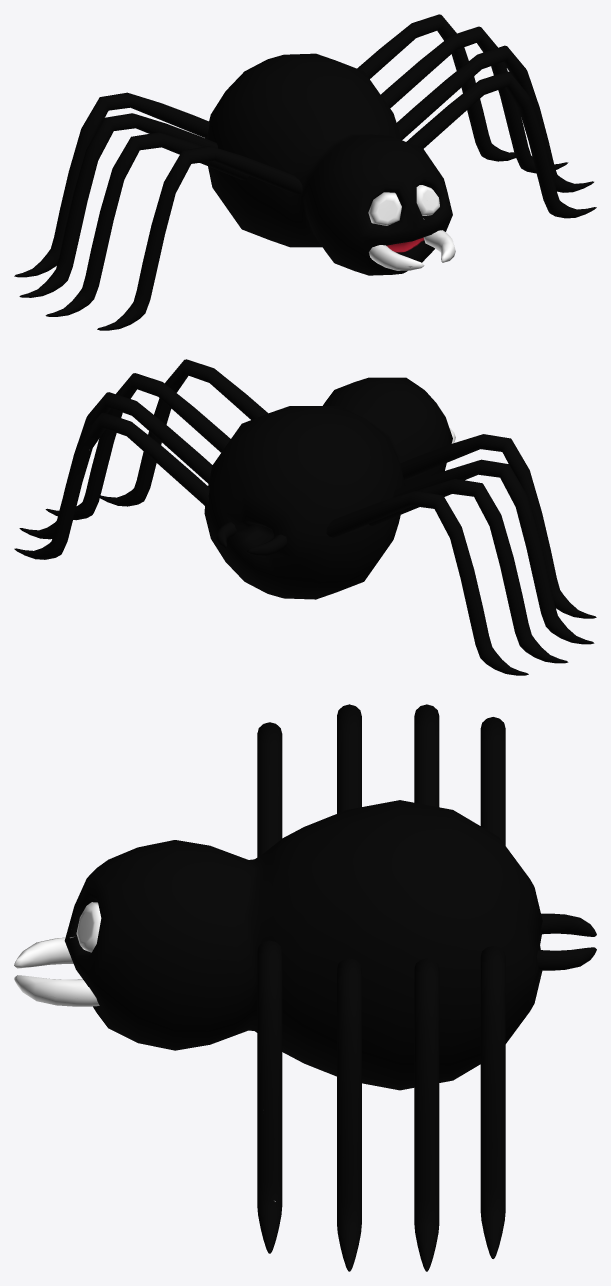
Rendered from spider.glb.
3 renders of one model, top to bottom at view 1: azimuth 30°, elevation 25°; view 2: azimuth 150°, elevation 25°; view 3: azimuth 270°, elevation 25°, orthographic. The views are drawn at different scales.
Visible parts, largest first — view 1: uploads_files_712193_crtbspd:Mesh; view 2: uploads_files_712193_crtbspd:Mesh; view 3: uploads_files_712193_crtbspd:Mesh.
Boxes of the visible parts, x1=… form: uploads_files_712193_crtbspd:Mesh: x1=14, y1=14, x2=596, y2=330; uploads_files_712193_crtbspd:Mesh: x1=14, y1=359, x2=596, y2=675; uploads_files_712193_crtbspd:Mesh: x1=14, y1=704, x2=596, y2=1271.
Size of the model in its own units: 3.4 by 1.05 by 2.11.
Materials: 1 (1 with a texture image).
